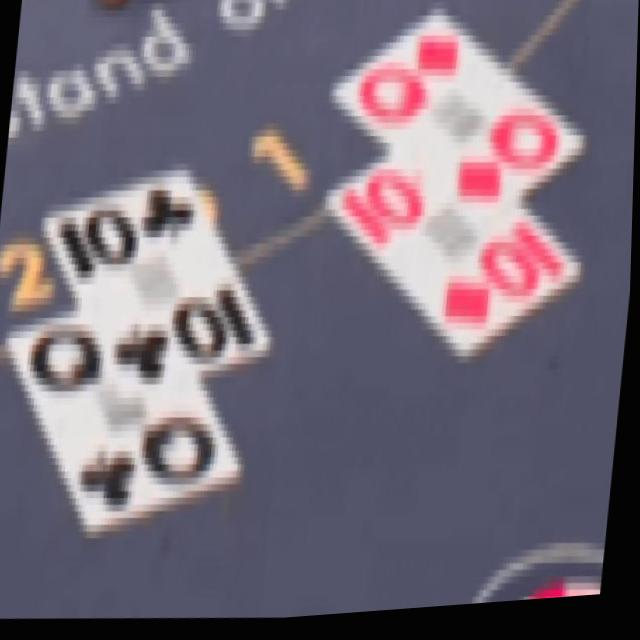Card-10: (45, 168, 274, 423), (327, 159, 584, 371)
Card-Q: (333, 15, 586, 239), (10, 314, 243, 542)
